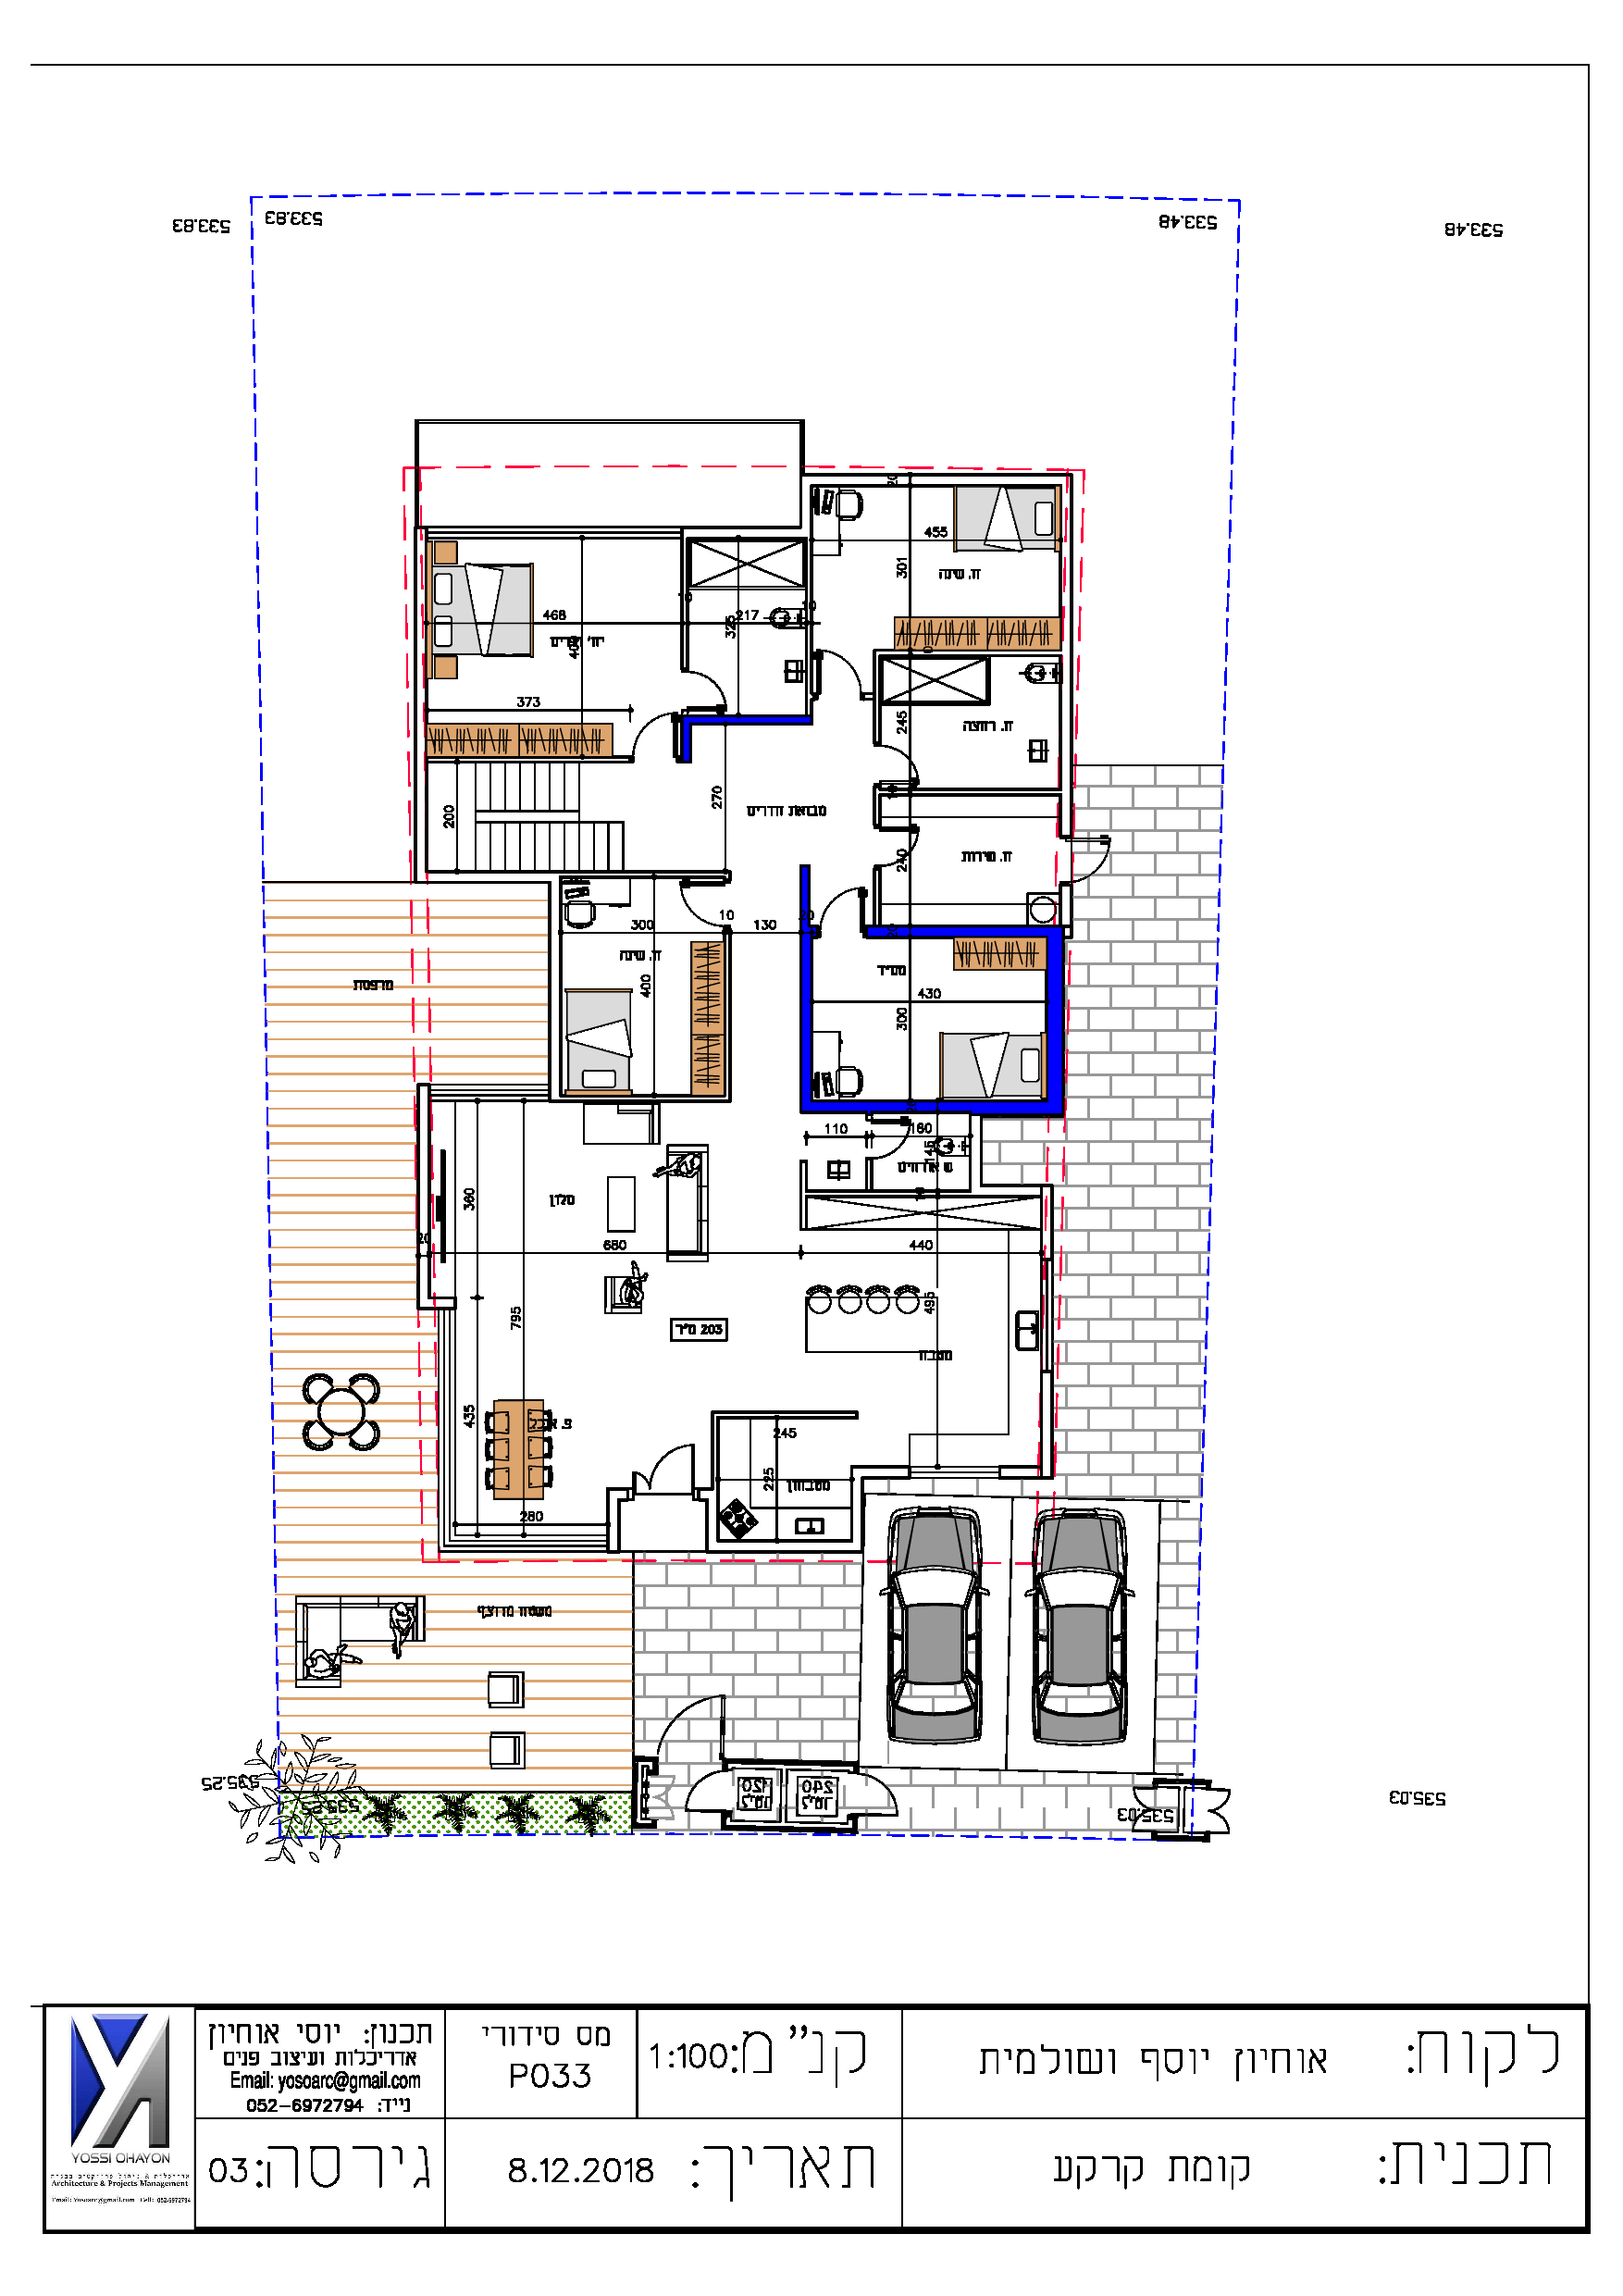door: (652, 1681, 734, 1743), (617, 1430, 701, 1483), (861, 745, 931, 789), (1075, 833, 1121, 894), (884, 826, 934, 877), (666, 884, 717, 933), (878, 1117, 922, 1168), (861, 1769, 901, 1822), (1119, 1780, 1154, 1839), (1205, 1778, 1240, 1838), (815, 643, 864, 685), (632, 710, 678, 754), (817, 885, 869, 922), (682, 1764, 718, 1816), (696, 668, 731, 711)
wall: (1047, 928, 1063, 1114), (803, 936, 810, 1110), (977, 1101, 1063, 1114)
